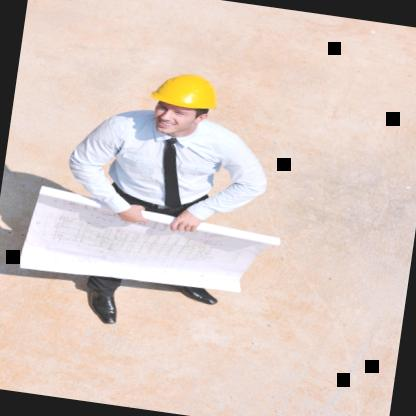helmet: (140, 62, 230, 148)
